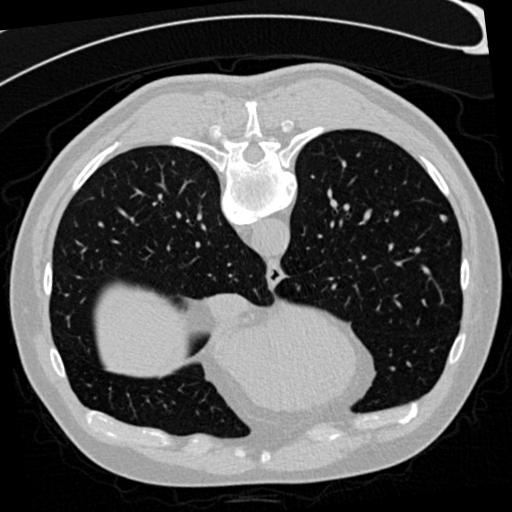nodule: (436, 213, 450, 227)
